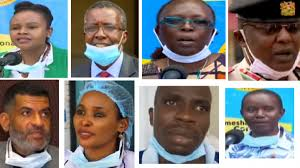mask_weared_incorrect: (1, 3, 65, 70), (145, 95, 214, 157), (150, 4, 222, 63), (236, 16, 300, 77), (65, 102, 126, 165), (76, 4, 133, 70), (3, 96, 57, 163), (242, 94, 282, 138)
